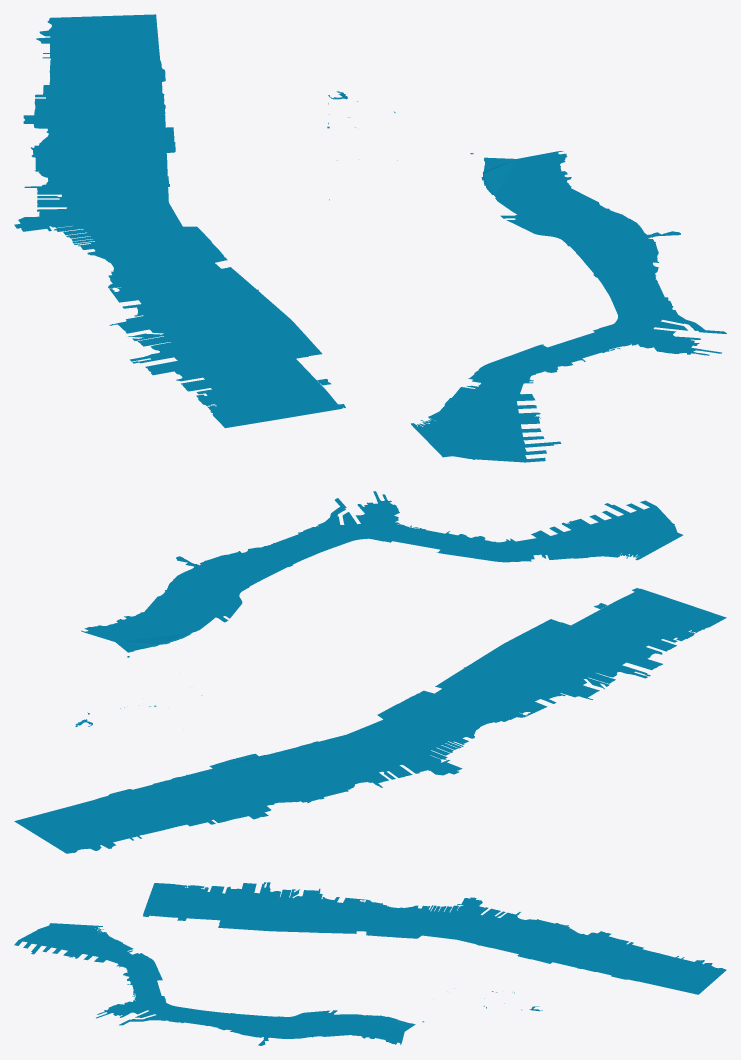
File: water.glb
3 views of the same model, one above another, from view 1: azimuth 30°, elevation 25°; view 2: azimuth 150°, elevation 25°; view 3: azimuth 270°, elevation 25° (orthographic). The views are drawn at different scales.
Parts seen in each view (by area): view 1: water; view 2: water; view 3: water.
Boxes of the visible parts, x1,y1,x2,y2 form: water: (14,14,726,462); water: (14,491,726,853); water: (14,882,726,1045).
Size of the model in its own units: 6482 by 175 by 11931.
